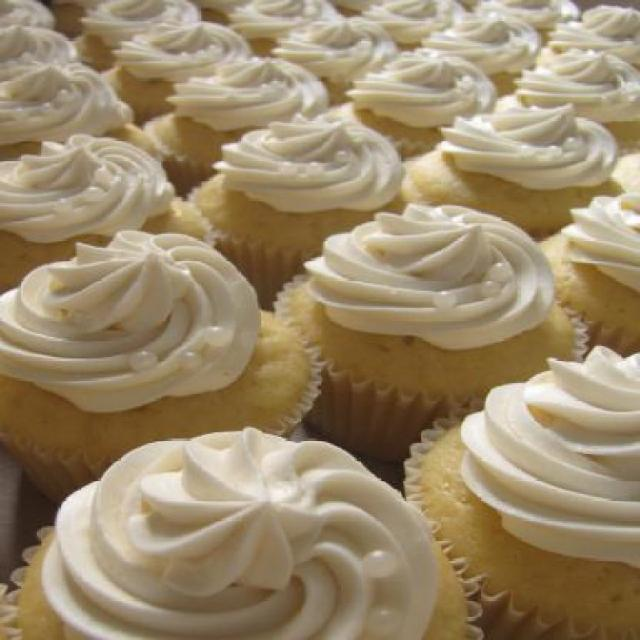Muffin: (0, 0, 638, 638), (0, 423, 482, 640), (272, 212, 578, 411), (410, 344, 639, 602)
